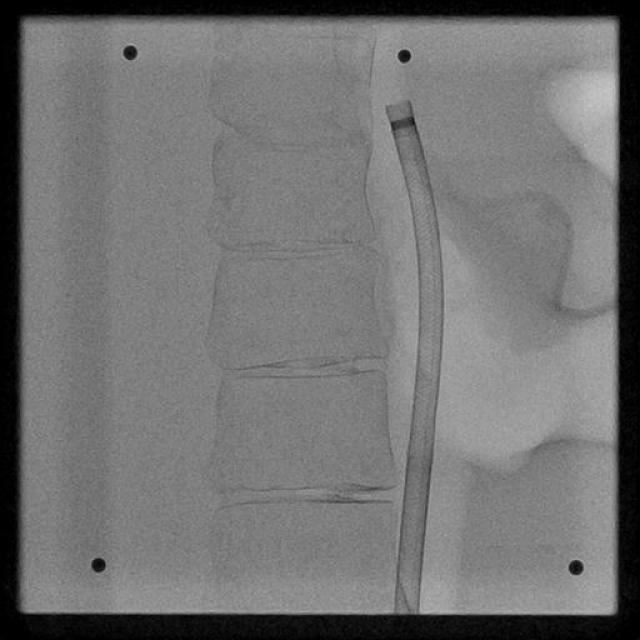bend: (408, 440, 434, 454)
entry: (394, 606, 420, 614)
marker: (390, 116, 416, 133)
tip: (387, 99, 412, 110)
